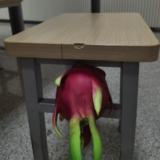pitaya: (52, 66, 111, 157)
